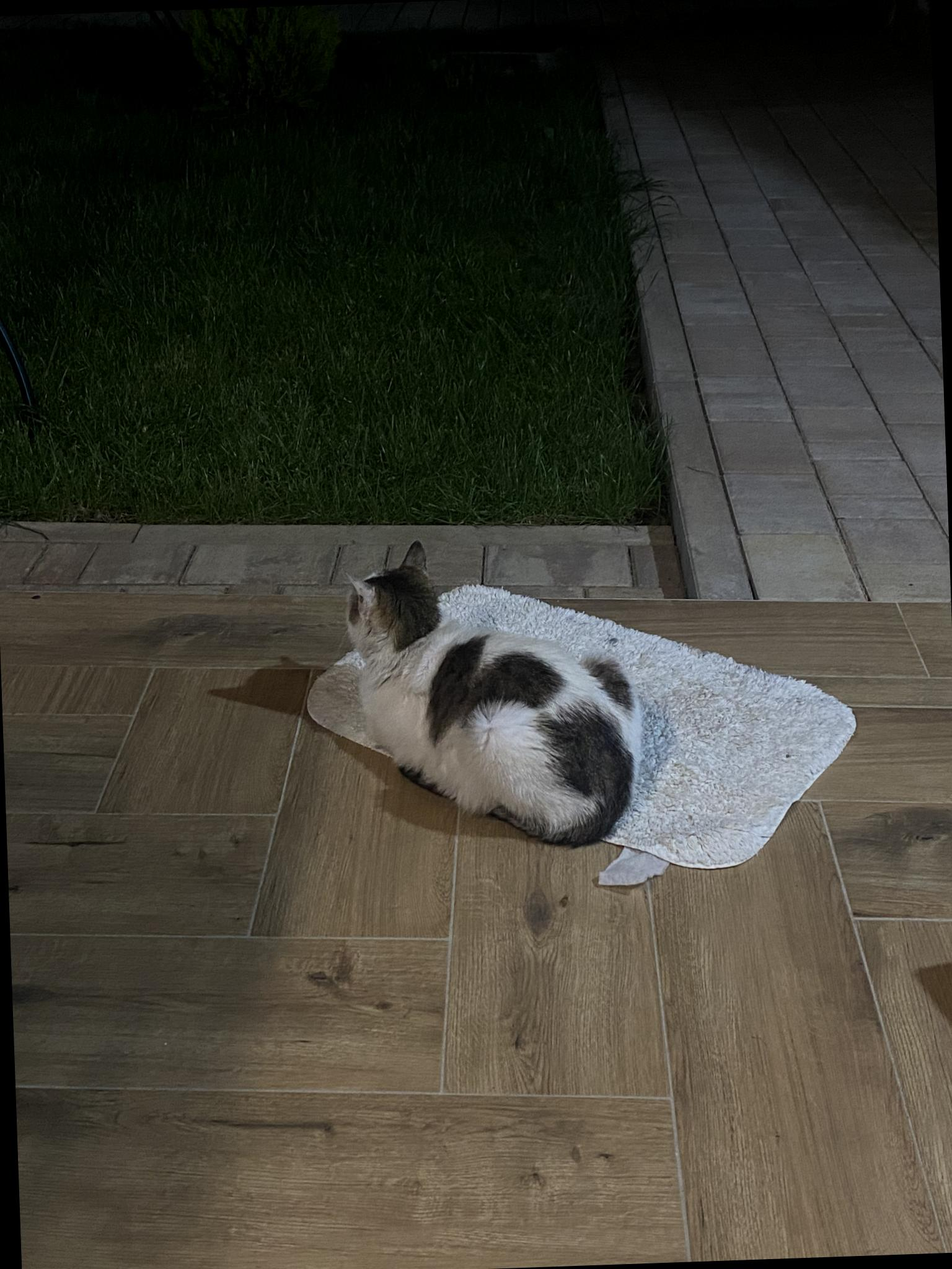macka: (340, 531, 645, 855)
